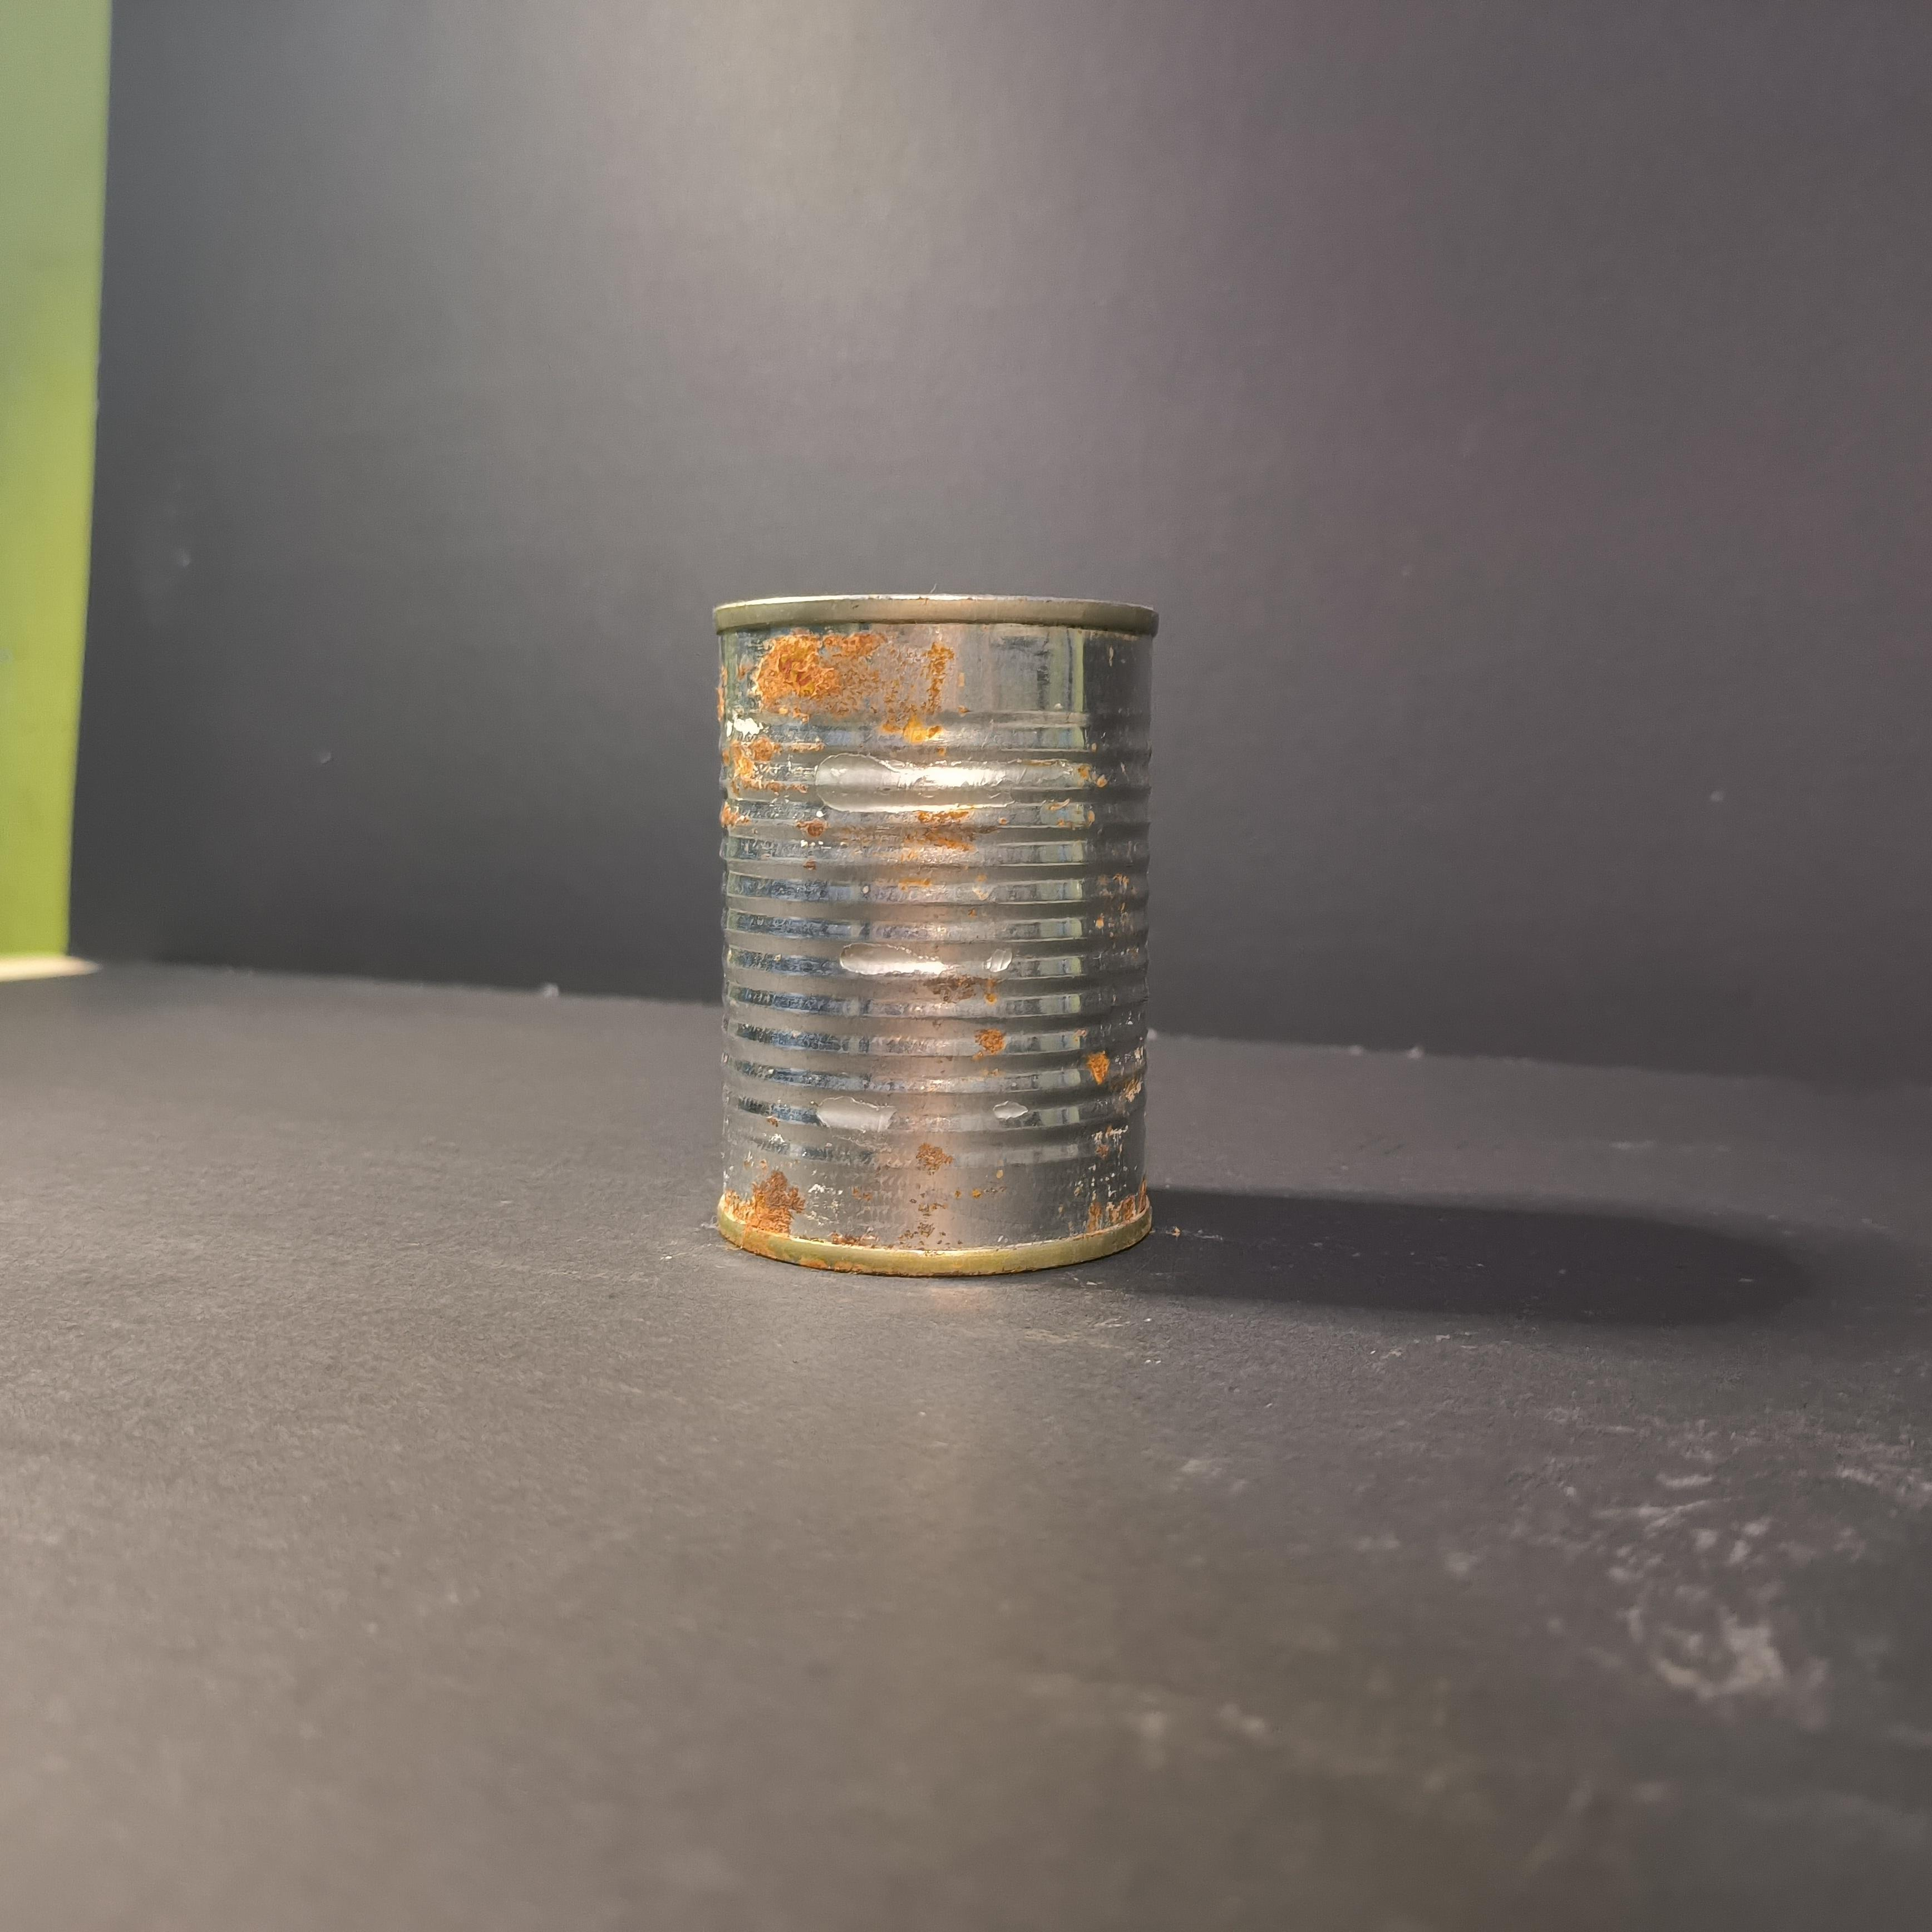Rusted: (707, 568, 1185, 1280)
